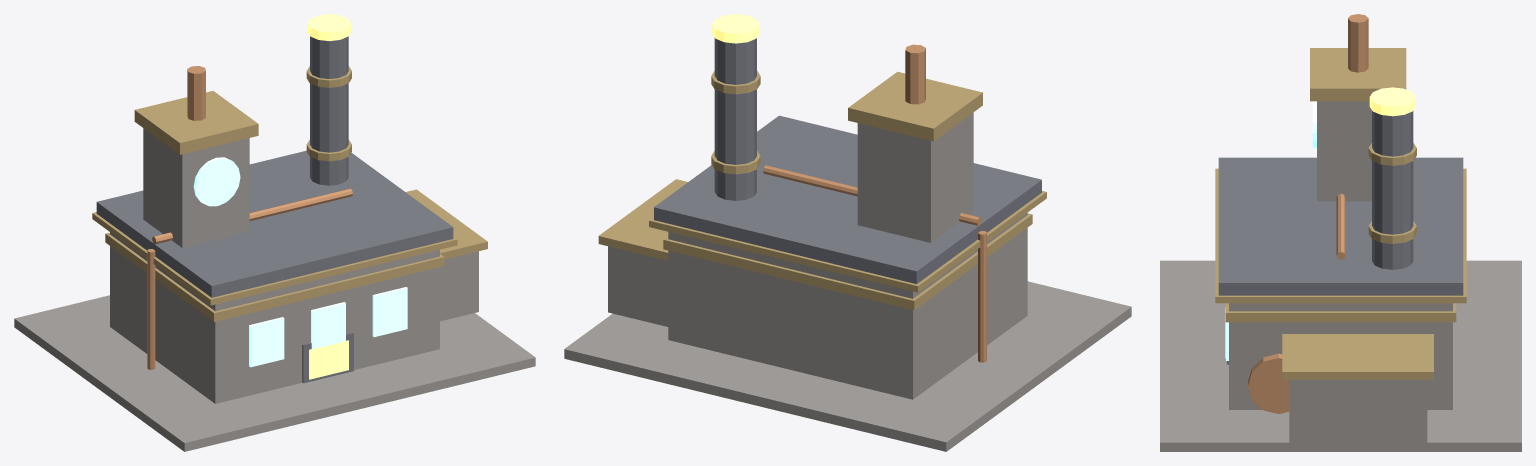
The model's file is gearforge_civic_core.glb.
The picture shows the model from 3 angles, left to right: view 1: azimuth 30°, elevation 25°; view 2: azimuth 150°, elevation 25°; view 3: azimuth 270°, elevation 25°; orthographic projection. The views are drawn at different scales.
Visible parts, largest first — view 1: gearforge_civic_core_pad, gearforge_civic_core_roof, gearforge_civic_core_hall, gearforge_civic_core_tower, gearforge_civic_core_chimney, gearforge_civic_core_tower_cap, gearforge_civic_core_hall_band, gearforge_civic_core_roof_trim, gearforge_civic_core_annex, gearforge_civic_core_dial, gearforge_civic_core_window_-22, gearforge_civic_core_window_22 (+8 smaller); view 2: gearforge_civic_core_hall, gearforge_civic_core_pad, gearforge_civic_core_roof, gearforge_civic_core_tower, gearforge_civic_core_chimney, gearforge_civic_core_tower_cap, gearforge_civic_core_hall_band, gearforge_civic_core_annex, gearforge_civic_core_roof_trim, gearforge_civic_core_annex_roof, gearforge_civic_core_spire, gearforge_civic_core_chimney_lip (+4 smaller); view 3: gearforge_civic_core_pad, gearforge_civic_core_roof, gearforge_civic_core_annex, gearforge_civic_core_hall, gearforge_civic_core_annex_roof, gearforge_civic_core_chimney, gearforge_civic_core_tower, gearforge_civic_core_tower_cap, gearforge_civic_core_roof_trim, gearforge_civic_core_hall_band, gearforge_civic_core_boiler, gearforge_civic_core_spire (+4 smaller).
Part boxes in pixels (bbox=[...]): gearforge_civic_core_pad: bbox=[14, 295, 535, 451]; gearforge_civic_core_roof: bbox=[96, 150, 453, 297]; gearforge_civic_core_hall: bbox=[110, 232, 439, 403]; gearforge_civic_core_tower: bbox=[143, 128, 249, 247]; gearforge_civic_core_chimney: bbox=[310, 36, 348, 185]; gearforge_civic_core_tower_cap: bbox=[134, 91, 258, 154]; gearforge_civic_core_hall_band: bbox=[105, 232, 444, 321]; gearforge_civic_core_roof_trim: bbox=[92, 212, 457, 305]; gearforge_civic_core_annex: bbox=[440, 251, 478, 321]; gearforge_civic_core_dial: bbox=[193, 157, 240, 206]; gearforge_civic_core_window_-22: bbox=[249, 317, 284, 367]; gearforge_civic_core_window_22: bbox=[372, 287, 407, 337]; gearforge_civic_core_hall: bbox=[668, 213, 1027, 399]; gearforge_civic_core_pad: bbox=[564, 281, 1131, 451]; gearforge_civic_core_roof: bbox=[654, 115, 1041, 284]; gearforge_civic_core_tower: bbox=[857, 112, 973, 242]; gearforge_civic_core_chimney: bbox=[714, 38, 756, 200]; gearforge_civic_core_tower_cap: bbox=[848, 71, 982, 141]; gearforge_civic_core_hall_band: bbox=[663, 213, 1032, 310]; gearforge_civic_core_annex: bbox=[608, 246, 668, 326]; gearforge_civic_core_roof_trim: bbox=[649, 191, 1046, 292]; gearforge_civic_core_annex_roof: bbox=[598, 179, 687, 260]; gearforge_civic_core_spire: bbox=[905, 44, 925, 104]; gearforge_civic_core_chimney_lip: bbox=[712, 14, 759, 43]; gearforge_civic_core_pad: bbox=[1160, 260, 1521, 451]; gearforge_civic_core_roof: bbox=[1218, 157, 1463, 295]; gearforge_civic_core_annex: bbox=[1289, 379, 1427, 444]; gearforge_civic_core_hall: bbox=[1229, 303, 1452, 409]; gearforge_civic_core_annex_roof: bbox=[1282, 334, 1433, 379]; gearforge_civic_core_chimney: bbox=[1372, 111, 1413, 269]; gearforge_civic_core_tower: bbox=[1317, 101, 1371, 201]; gearforge_civic_core_tower_cap: bbox=[1310, 48, 1406, 101]; gearforge_civic_core_roof_trim: bbox=[1215, 168, 1466, 303]; gearforge_civic_core_hall_band: bbox=[1225, 303, 1456, 322]; gearforge_civic_core_boiler: bbox=[1248, 353, 1289, 413]; gearforge_civic_core_spire: bbox=[1348, 14, 1368, 72].
Size of the model in its own units: 12.85 by 9.8 by 10.5.
